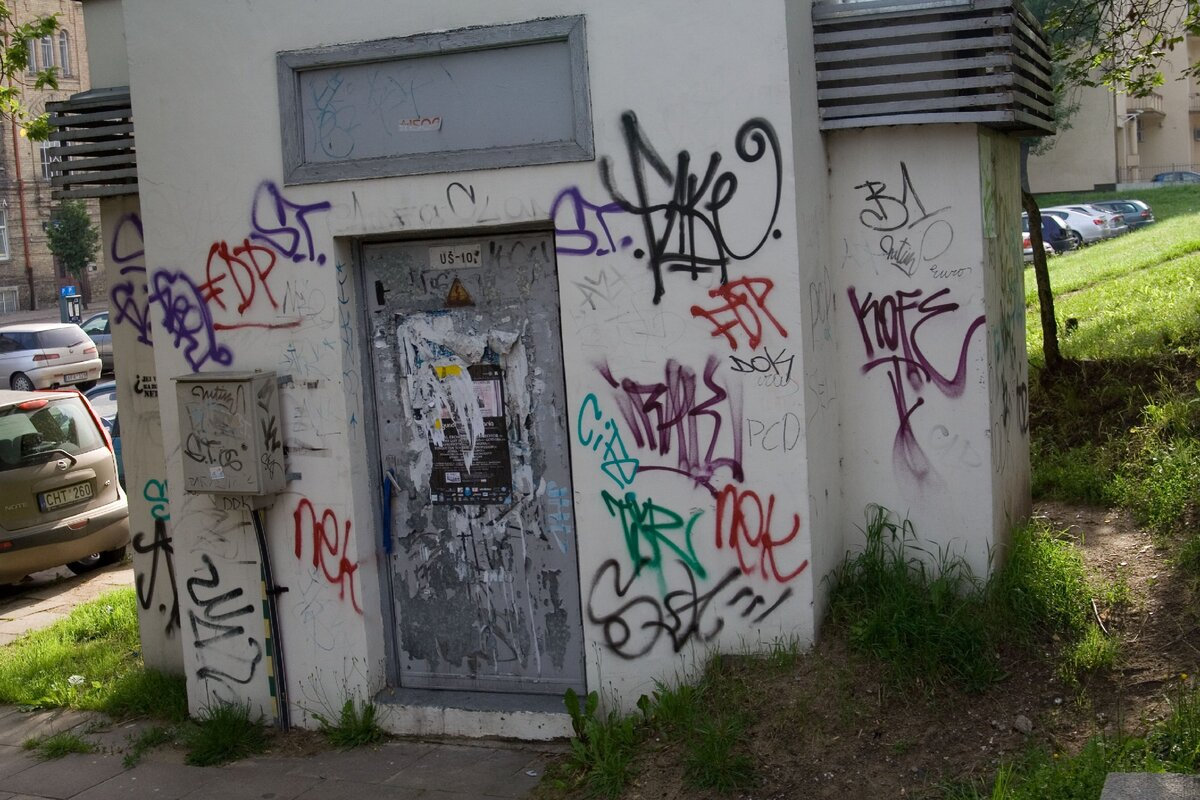graphite: (585, 366, 801, 655), (150, 180, 347, 377), (557, 116, 768, 290), (839, 274, 987, 498), (191, 547, 282, 700), (856, 165, 964, 287), (289, 496, 374, 622), (128, 487, 190, 645), (108, 213, 155, 365), (707, 263, 784, 351)
